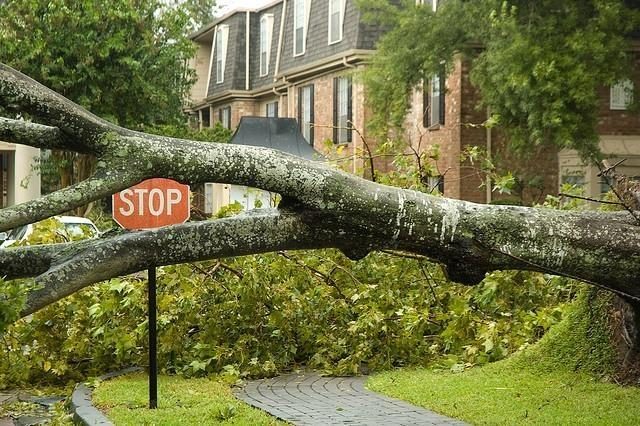car: (0, 216, 101, 244)
